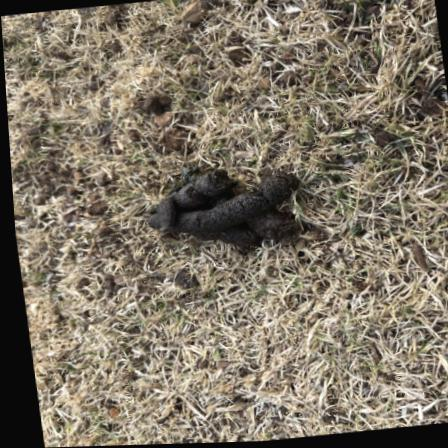dog-poop: (130, 151, 295, 262)
